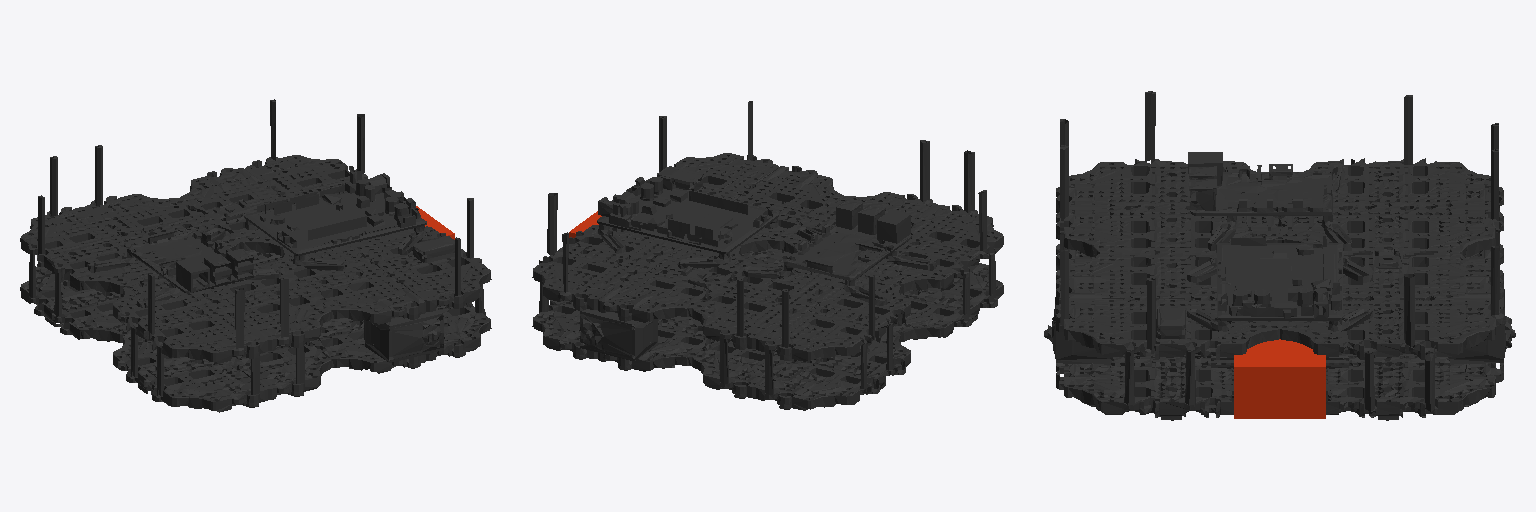
robot.urdf — tb3_waffle_pi_lowlidar:
<?xml version="1.0" ?>
<!-- =================================================================================== -->
<!-- |    This document was autogenerated by xacro from urdf.xacro                     | -->
<!-- |    EDITING THIS FILE BY HAND IS NOT RECOMMENDED                                 | -->
<!-- =================================================================================== -->
<!--
  TurtleBot3 Waffle Pi 개조형 — 우리 로봇 URDF (처음엔 beebot CAD에서 매니퓰레이터 · 맨 위 판(3층)과 그 위 · 뒤 pole·카메라를 빼서 만듦)
  + LDS-03 라이다를 1층 맨 앞, 두 바퀴 사이 가운데에.
  2층(지금 맨 위): 앞쪽 OpenCR · 뒤쪽 Raspberry Pi 4 · 모서리 지지봉(standoff)은 그대로 위로 솟아 있음 (2026-10-27 사진).

  메시: body.stl · wheel_*.stl (mm, scale 0.001) — 저장소에서 직접 관리 (받아오는 것 없음).

  ★ 같은 파일이 두 곳 (의도적 분리, 내용은 글자까지 같게):
      ros2_ws/src/tb3_bringup/urdf/robot.urdf.xacro  — ROS (robot_state_publisher · RViz)
      isaac/urdf/beebot/urdf.xacro                   — Isaac 학습
    고치면 둘 다 고치고 isaac/urdf/check_same.sh 로 확인 (메시도 양쪽 meshes/에 같은 파일). 다른 건 메시 위치뿐 → xacro 인자 mesh_uri.
  ★ 실측해서 고칠 값 = 아래 property 중 "측정" 표시. 바꾸면 colcon build 후 view-model로 다시 확인.

  좌표 (REP-105): base_footprint(바닥, 루트) → base_link(바퀴축 아래, +0.010) — x 앞 · y 왼쪽 · z 위.
  드라이버가 odom→base_footprint를 낸다. 아래 값은 전부 base_link 기준.
  몸통 외곽: x -0.197 ~ +0.069 (앞끝 0.069) · y ±0.139 · z -0.010(캐스터) ~ 0.091(지지봉 끝).
-->
<robot name="tb3_waffle_pi_lowlidar">
  <material name="body">
    <color rgba="0.25 0.25 0.25 1"/>
  </material>
  <material name="dark">
    <color rgba="0.12 0.12 0.12 1"/>
  </material>
  <material name="lidar">
    <color rgba="0.85 0.25 0.1 1"/>
  </material>
  <link name="base_footprint"/>
  <joint name="base_joint" type="fixed">
    <parent link="base_footprint"/>
    <child link="base_link"/>
    <origin xyz="0 0 0.010"/>
  </joint>
  <link name="base_link">
    <visual>
      <geometry>
        <mesh filename="meshes/body.stl" scale="0.001 0.001 0.001"/>
      </geometry>
      <material name="body"/>
    </visual>
    <!-- 1층~2층 + 지지봉 (판 266×266mm, 중심 x -0.064) -->
    <collision>
      <origin xyz="-0.064 0 0.0455"/>
      <geometry>
        <box size="0.266 0.266 0.091"/>
      </geometry>
    </collision>
    <!-- 근사: Waffle Pi 1.8 kg에서 위판 뺀 몸체 (배터리·모터·보드·라이다). Isaac 학습용 — 바꾸면 isaac 재학습 -->
    <inertial>
      <origin xyz="-0.064 0 0.030"/>
      <mass value="1.4"/>
      <inertia ixx="0.0090" ixy="0" ixz="0" iyy="0.0090" iyz="0" izz="0.0165"/>
    </inertial>
  </link>
  <joint name="wheel_left_joint" type="continuous">
    <parent link="base_link"/>
    <child link="wheel_left_link"/>
    <origin xyz="0 0.1439 0.023"/>
    <axis xyz="0 1 0"/>
  </joint>
  <link name="wheel_left_link">
    <visual>
      <geometry>
        <mesh filename="meshes/wheel_left.stl" scale="0.001 0.001 0.001"/>
      </geometry>
      <material name="dark"/>
    </visual>
    <collision>
      <origin rpy="1.5708 0 0"/>
      <geometry>
        <cylinder length="0.015" radius="0.033"/>
      </geometry>
    </collision>
    <inertial>
      <mass value="0.0285"/>
      <inertia ixx="1.1e-05" ixy="0" ixz="0" iyy="2.05e-05" iyz="0" izz="1.1e-05"/>
    </inertial>
  </link>
  <joint name="wheel_right_joint" type="continuous">
    <parent link="base_link"/>
    <child link="wheel_right_link"/>
    <origin xyz="0 -0.1439 0.023"/>
    <axis xyz="0 1 0"/>
  </joint>
  <link name="wheel_right_link">
    <visual>
      <geometry>
        <mesh filename="meshes/wheel_right.stl" scale="0.001 0.001 0.001"/>
      </geometry>
      <material name="dark"/>
    </visual>
    <collision>
      <origin rpy="1.5708 0 0"/>
      <geometry>
        <cylinder length="0.015" radius="0.033"/>
      </geometry>
    </collision>
    <inertial>
      <mass value="0.0285"/>
      <inertia ixx="1.1e-05" ixy="0" ixz="0" iyy="2.05e-05" iyz="0" izz="1.1e-05"/>
    </inertial>
  </link>
  <joint name="caster_back_left_joint" type="fixed">
    <parent link="base_link"/>
    <child link="caster_back_left_link"/>
    <origin xyz="-0.177 0.064 -0.005237"/>
  </joint>
  <link name="caster_back_left_link">
    <collision>
      <geometry>
        <sphere radius="0.004763"/>
      </geometry>
    </collision>
  </link>
  <joint name="caster_back_right_joint" type="fixed">
    <parent link="base_link"/>
    <child link="caster_back_right_link"/>
    <origin xyz="-0.177 -0.064 -0.005237"/>
  </joint>
  <link name="caster_back_right_link">
    <collision>
      <geometry>
        <sphere radius="0.004763"/>
      </geometry>
    </collision>
  </link>
  <!-- OpenCR 내장 IMU (beebot 실측: 보드 윗면). 축은 base_link와 같다고 가정 — 왼쪽 회전에 gz > 0 확인 -->
  <joint name="imu_joint" type="fixed">
    <parent link="base_link"/>
    <child link="imu_link"/>
    <origin xyz="0.0178 0 0.0585"/>
  </joint>
  <link name="imu_link"/>
  <joint name="scan_joint" type="fixed">
    <parent link="base_link"/>
    <child link="base_scan"/>
    <origin rpy="0 0 0.0" xyz="0.06 0.0 0.022"/>
  </joint>
  <link name="base_scan">
    <!-- LDS-03 외형 (상자로 근사, 스캔 평면이 높이 중앙이라고 가정) -->
    <visual>
      <geometry>
        <box size="0.0397 0.0547 0.034"/>
      </geometry>
      <material name="lidar"/>
    </visual>
    <collision>
      <geometry>
        <box size="0.0397 0.0547 0.034"/>
      </geometry>
    </collision>
  </link>
</robot>

--- What the picture shows (computed from the rendered views, not written in the file) ---
The picture shows the robot from 3 angles, left to right: view 1: azimuth 30°, elevation 25°; view 2: azimuth 150°, elevation 25°; view 3: azimuth 270°, elevation 25°; orthographic projection.
Model tb3_waffle_pi_lowlidar with 8 links and 7 joints (2 continuous, 5 fixed), rooted at base_footprint, posed every joint at zero.
Links seen in each view (by area): view 1: base_link; view 2: base_link; view 3: base_link, base_scan.
Link boxes in pixels (bbox=[...]): base_link: bbox=[20, 99, 491, 412]; base_link: bbox=[532, 101, 1003, 410]; base_link: bbox=[1044, 91, 1515, 420]; base_scan: bbox=[1234, 339, 1325, 418].
Size in the robot's own frame: 0.2766 by 0.2787 by 0.1015 metres.
Meshes: 3 distinct files referenced, 1 mesh visuals loaded (1 binary STL); not drawn: 2 (reference not matched to a file when rendering).
